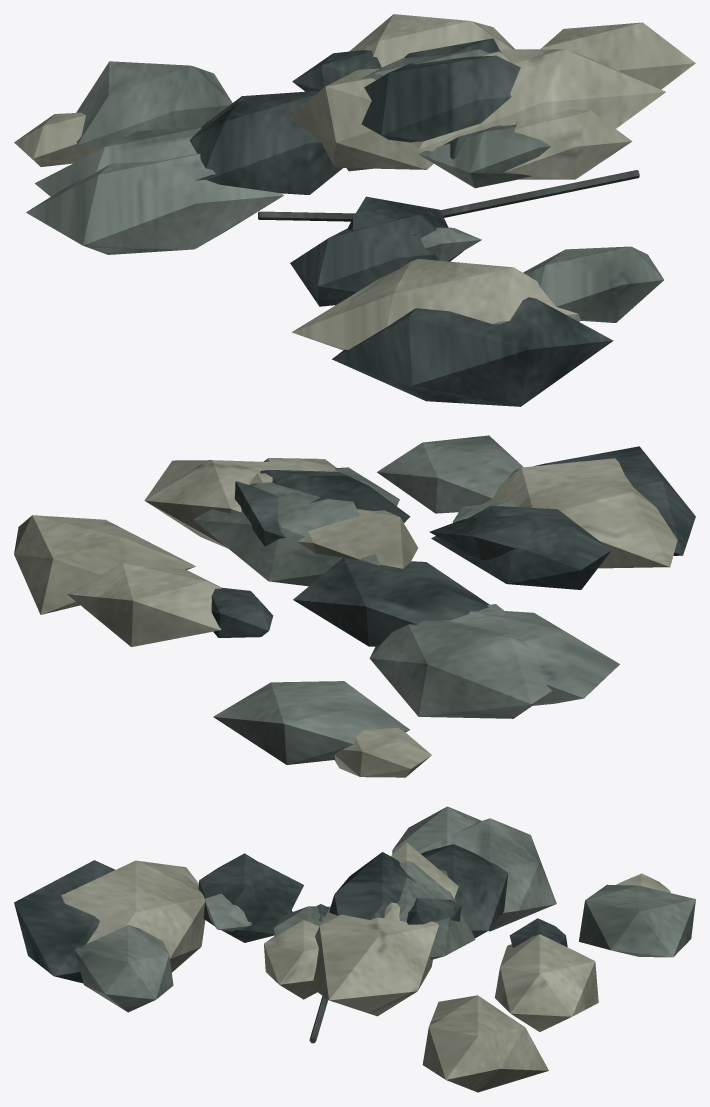
Rendered from 0111_scree_pile_11.glb.
The picture shows the model from 3 angles, top to bottom: view 1: azimuth 30°, elevation 25°; view 2: azimuth 150°, elevation 25°; view 3: azimuth 270°, elevation 25°; orthographic projection. The views are drawn at different scales.
Visible parts, largest first — view 1: stone_dark, stone_light, stone, iron; view 2: stone, stone_light, stone_dark; view 3: stone_light, stone, stone_dark.
Boxes of the visible parts, x1,y1,x2,y2 form: stone_dark: (189, 38, 613, 406); stone_light: (14, 14, 695, 350); stone: (26, 49, 663, 322); iron: (258, 170, 639, 221); stone: (193, 435, 619, 764); stone_light: (14, 458, 677, 777); stone_dark: (211, 446, 695, 646); stone_light: (61, 842, 670, 1092); stone: (75, 806, 695, 1012); stone_dark: (14, 844, 567, 983).
Bounding box in the file's own units: 2.67 × 0.7093 × 2.9.
Materials: 4 (4 with a texture image).
